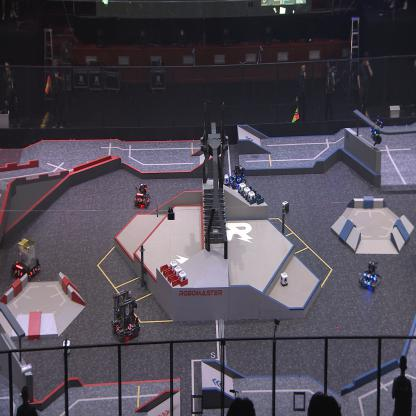car: (111, 287, 140, 341), (11, 236, 42, 281), (358, 259, 381, 290), (132, 182, 152, 207), (228, 164, 247, 190)
